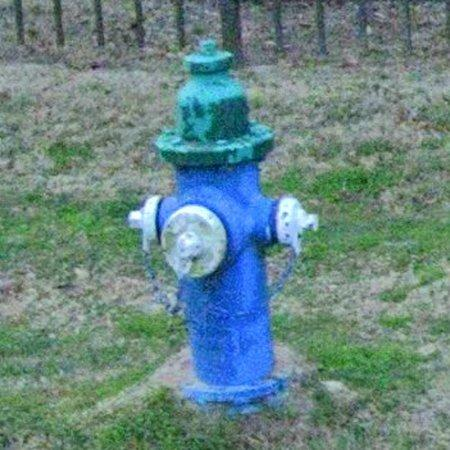a fire hydrant: (128, 40, 319, 405)
